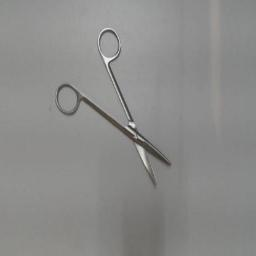Curved Mayo Scissors: (52, 24, 174, 192)
